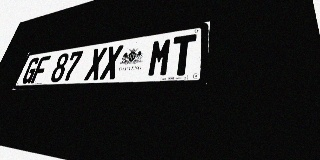7: (61, 51, 84, 82)
8: (49, 53, 71, 82)
F: (30, 55, 51, 83)
G: (21, 57, 41, 84)
M: (147, 37, 173, 77)
T: (169, 34, 197, 76)
X: (99, 45, 124, 80), (84, 47, 108, 81)
